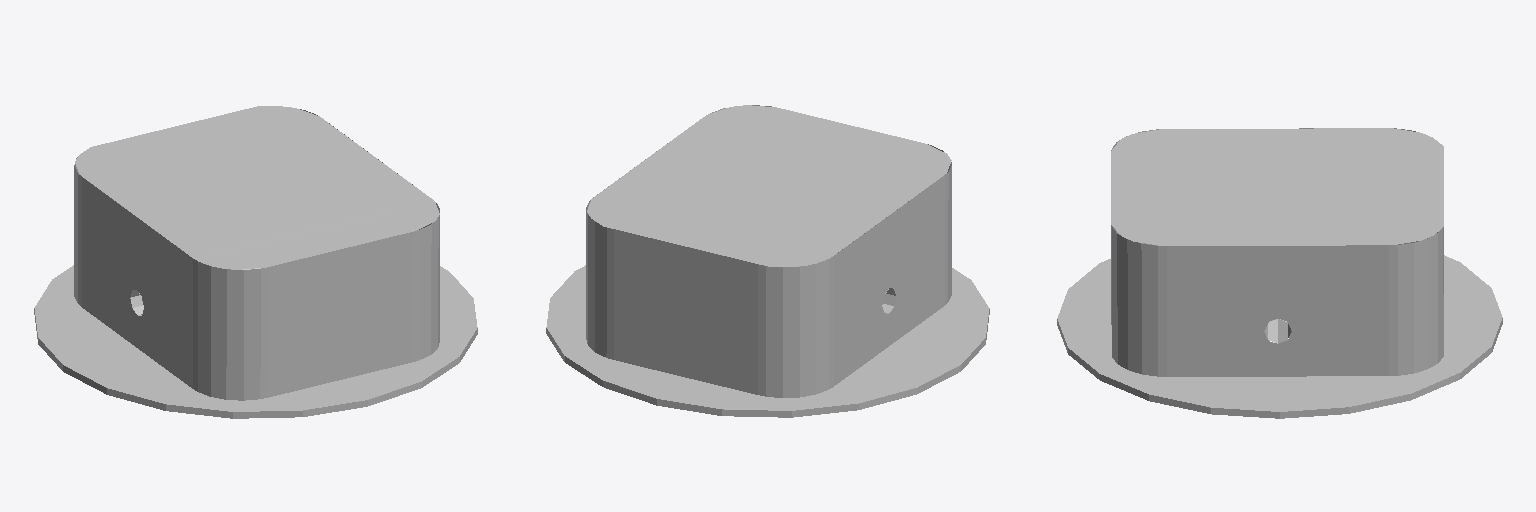
Rendered from yaw_platform.obj.
3 views of the same model, side by side, from view 1: azimuth 30°, elevation 25°; view 2: azimuth 150°, elevation 25°; view 3: azimuth 270°, elevation 25° (orthographic).
Parts seen in each view (by area): view 1: group pasted__group33 pasted__group39 pasted__nurbsToPoly386 pol, group pasted__group33 pasted__group39 pasted__polySurface46 poly, group pasted__group33 pasted__group39 pasted__nurbsToPoly391 pol, group pasted__group33 pasted__group39 pasted__nurbsToPoly385 pol, group pasted__group33 pasted__group39 pasted__nurbsToPoly390 pol, group pasted__group33 pasted__group39 pasted__nurbsToPoly392 pol, group pasted__group33 pasted__group39 pasted__nurbsToPoly389 pol; view 2: group pasted__group33 pasted__group39 pasted__nurbsToPoly386 pol, group pasted__group33 pasted__group39 pasted__polySurface46 poly, group pasted__group33 pasted__group39 pasted__nurbsToPoly388 pol, group pasted__group33 pasted__group39 pasted__nurbsToPoly385 pol, group pasted__group33 pasted__group39 pasted__nurbsToPoly389 pol, group pasted__group33 pasted__group39 pasted__nurbsToPoly387 pol, group pasted__group33 pasted__group39 pasted__nurbsToPoly390 pol; view 3: group pasted__group33 pasted__group39 pasted__nurbsToPoly386 pol, group pasted__group33 pasted__group39 pasted__nurbsToPoly393 pol, group pasted__group33 pasted__group39 pasted__polySurface46 poly, group pasted__group33 pasted__group39 pasted__nurbsToPoly392 pol, group pasted__group33 pasted__group39 pasted__nurbsToPoly387 pol.
Part boxes in pixels (bbox=[...]): group pasted__group33 pasted__group39 pasted__nurbsToPoly386 pol: bbox=[75, 106, 439, 269]; group pasted__group33 pasted__group39 pasted__polySurface46 poly: bbox=[34, 261, 477, 418]; group pasted__group33 pasted__group39 pasted__nurbsToPoly391 pol: bbox=[269, 232, 412, 396]; group pasted__group33 pasted__group39 pasted__nurbsToPoly385 pol: bbox=[82, 177, 192, 388]; group pasted__group33 pasted__group39 pasted__nurbsToPoly390 pol: bbox=[193, 259, 268, 400]; group pasted__group33 pasted__group39 pasted__nurbsToPoly392 pol: bbox=[413, 203, 439, 361]; group pasted__group33 pasted__group39 pasted__nurbsToPoly389 pol: bbox=[74, 157, 99, 306]; group pasted__group33 pasted__group39 pasted__nurbsToPoly386 pol: bbox=[587, 105, 951, 266]; group pasted__group33 pasted__group39 pasted__polySurface46 poly: bbox=[546, 258, 989, 417]; group pasted__group33 pasted__group39 pasted__nurbsToPoly388 pol: bbox=[614, 229, 757, 394]; group pasted__group33 pasted__group39 pasted__nurbsToPoly385 pol: bbox=[834, 175, 944, 385]; group pasted__group33 pasted__group39 pasted__nurbsToPoly389 pol: bbox=[758, 256, 833, 397]; group pasted__group33 pasted__group39 pasted__nurbsToPoly387 pol: bbox=[586, 197, 613, 359]; group pasted__group33 pasted__group39 pasted__nurbsToPoly390 pol: bbox=[928, 144, 951, 304]; group pasted__group33 pasted__group39 pasted__nurbsToPoly386 pol: bbox=[1111, 128, 1443, 245]; group pasted__group33 pasted__group39 pasted__nurbsToPoly393 pol: bbox=[1167, 245, 1388, 376]; group pasted__group33 pasted__group39 pasted__polySurface46 poly: bbox=[1057, 255, 1502, 418]; group pasted__group33 pasted__group39 pasted__nurbsToPoly392 pol: bbox=[1111, 225, 1166, 376]; group pasted__group33 pasted__group39 pasted__nurbsToPoly387 pol: bbox=[1389, 227, 1443, 375].
Bounding box in the file's own units: 0.0737 × 0.0253 × 0.0737.